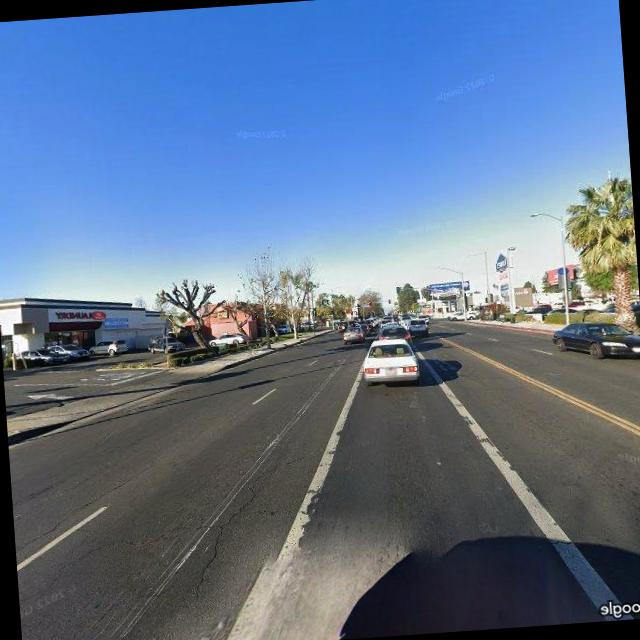crack: (170, 438, 312, 604), (20, 452, 168, 545)
